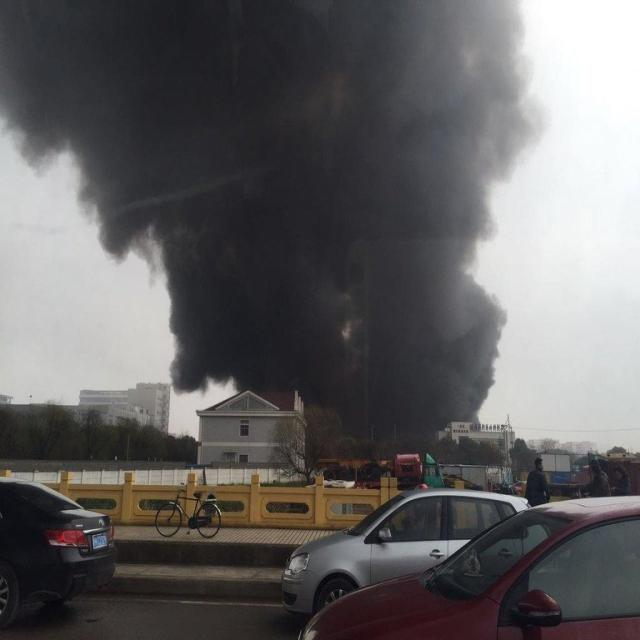smoke: (0, 0, 541, 451)
